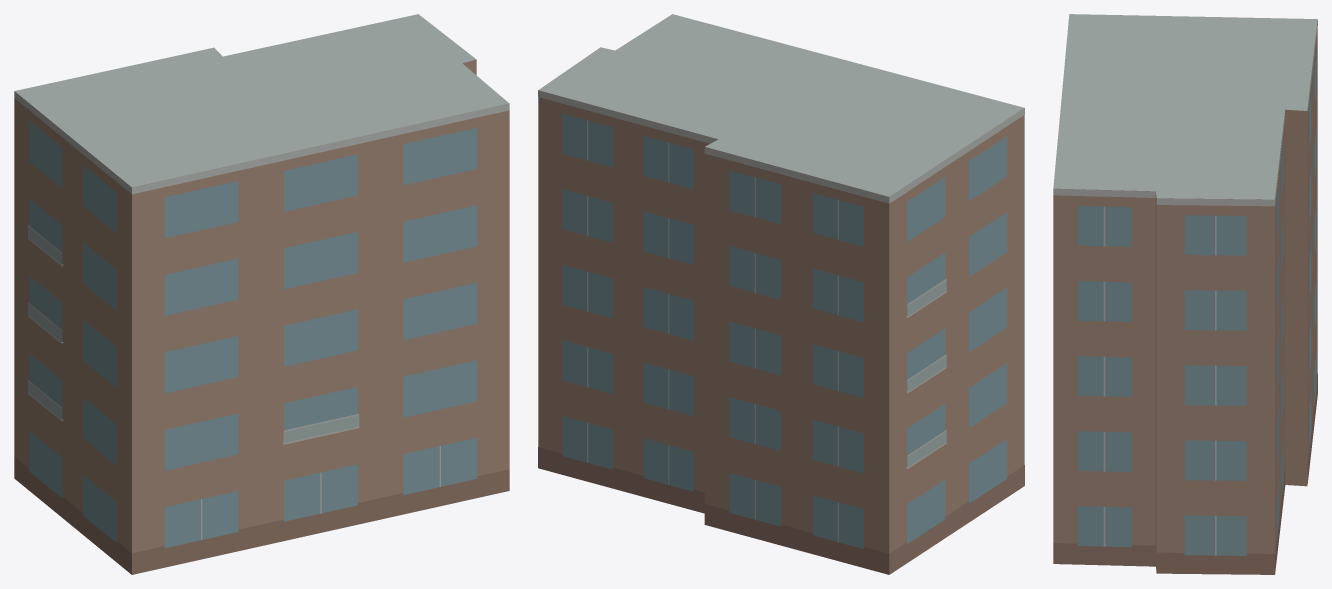
The model's file is survey-upis-33044894.glb.
3 views of the same model, side by side, from view 1: azimuth 30°, elevation 25°; view 2: azimuth 150°, elevation 25°; view 3: azimuth 270°, elevation 25° (orthographic). The views are drawn at different scales.
Visible parts, largest first — view 1: survey-upis-33044894.tmp; view 2: survey-upis-33044894.tmp; view 3: survey-upis-33044894.tmp.
Boxes of the visible parts, box(x1,y1,x2,y2) form: survey-upis-33044894.tmp: box(14, 14, 509, 574); survey-upis-33044894.tmp: box(538, 14, 1024, 574); survey-upis-33044894.tmp: box(1053, 14, 1317, 574).
Bounding box in the file's own units: 14.43 × 13.6 × 8.7.
